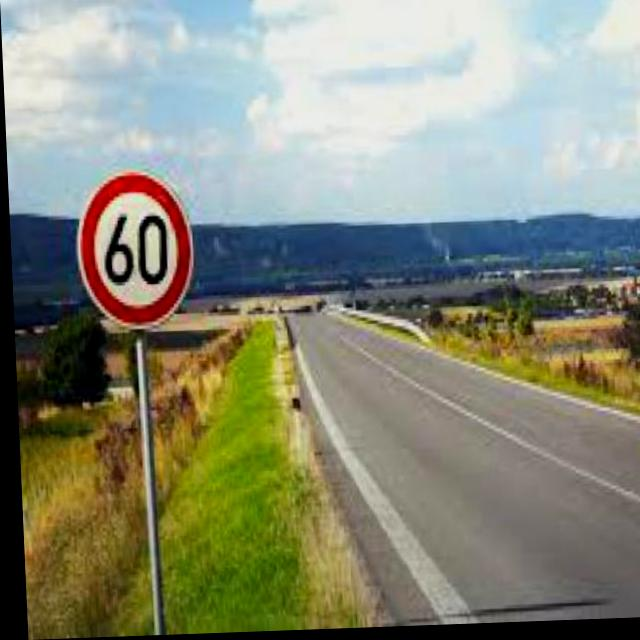limit60: (69, 164, 198, 337)
